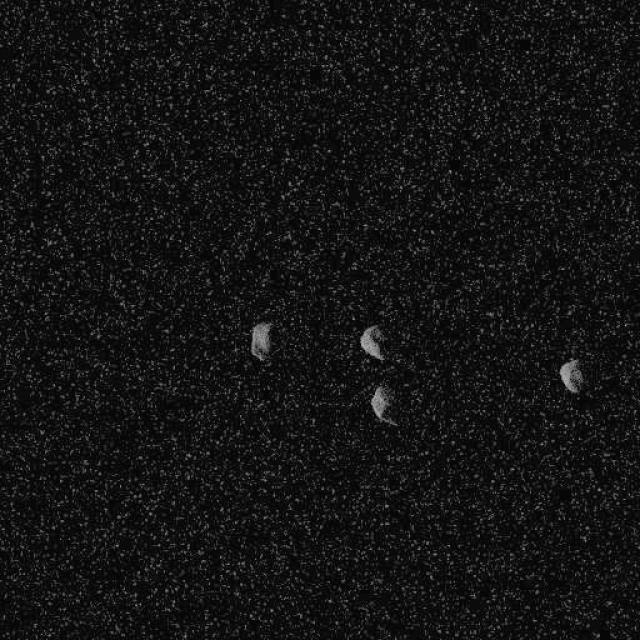D2: (369, 382, 399, 427), (358, 324, 388, 361), (248, 320, 272, 361), (558, 358, 584, 393)
